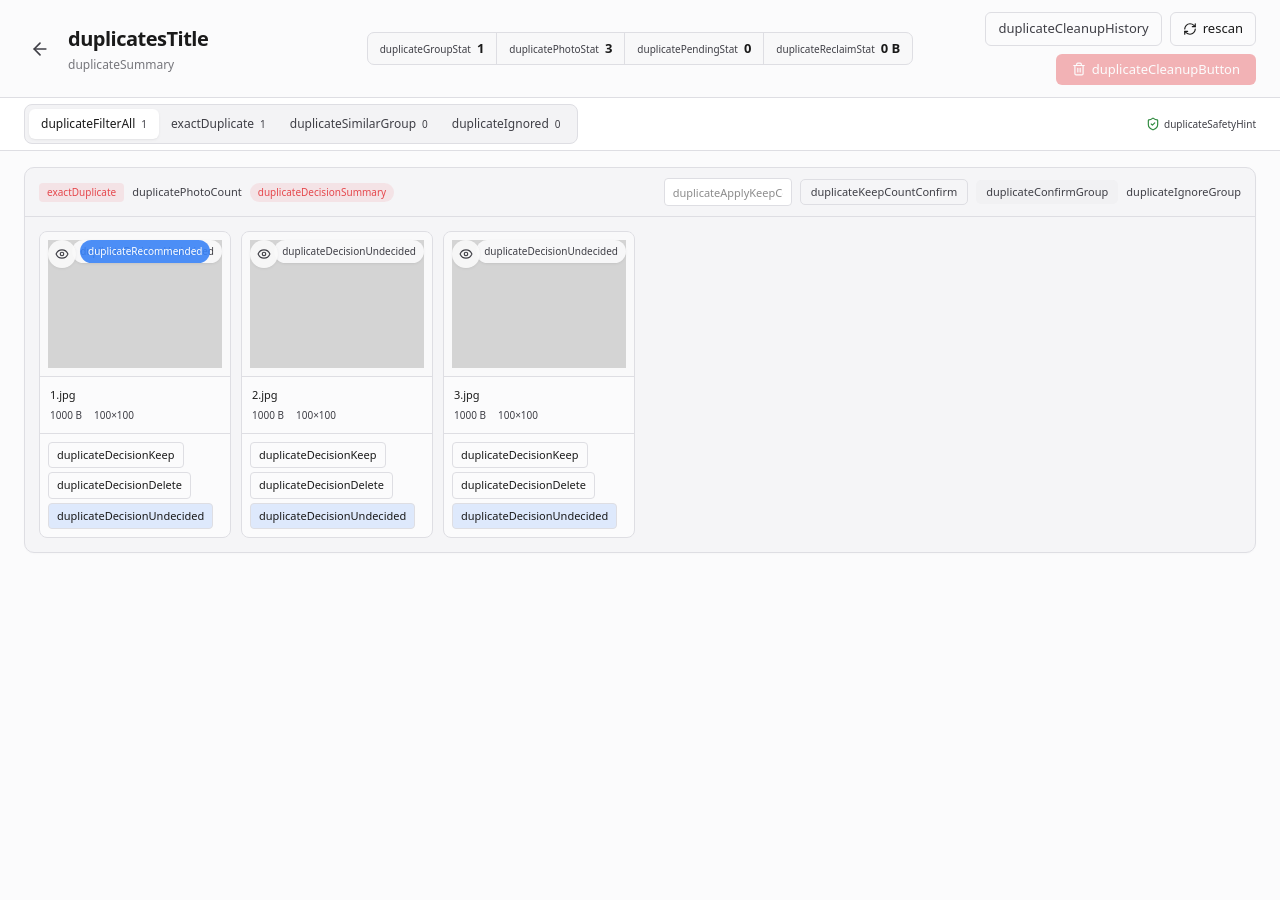
Scenario: DuplicatesPage persisted review › keeps batch recovery and failure information available for retry
Click the button "duplicateCleanupHistory". click: (1074, 29)
box: left=985, top=12, right=1162, bottom=46
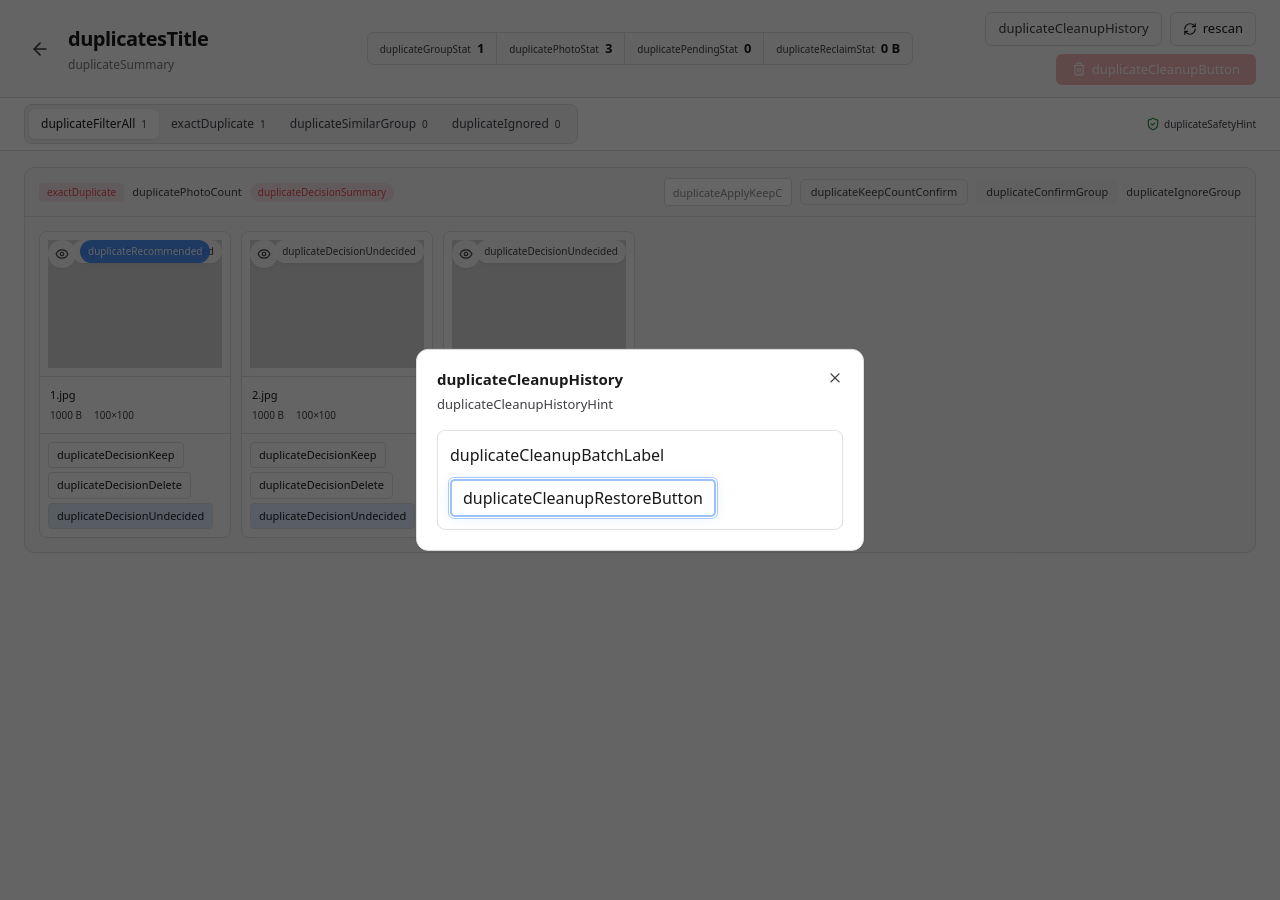
Click the button "duplicateCleanupRestoreButton". click: (583, 498)
box: left=450, top=479, right=716, bottom=517
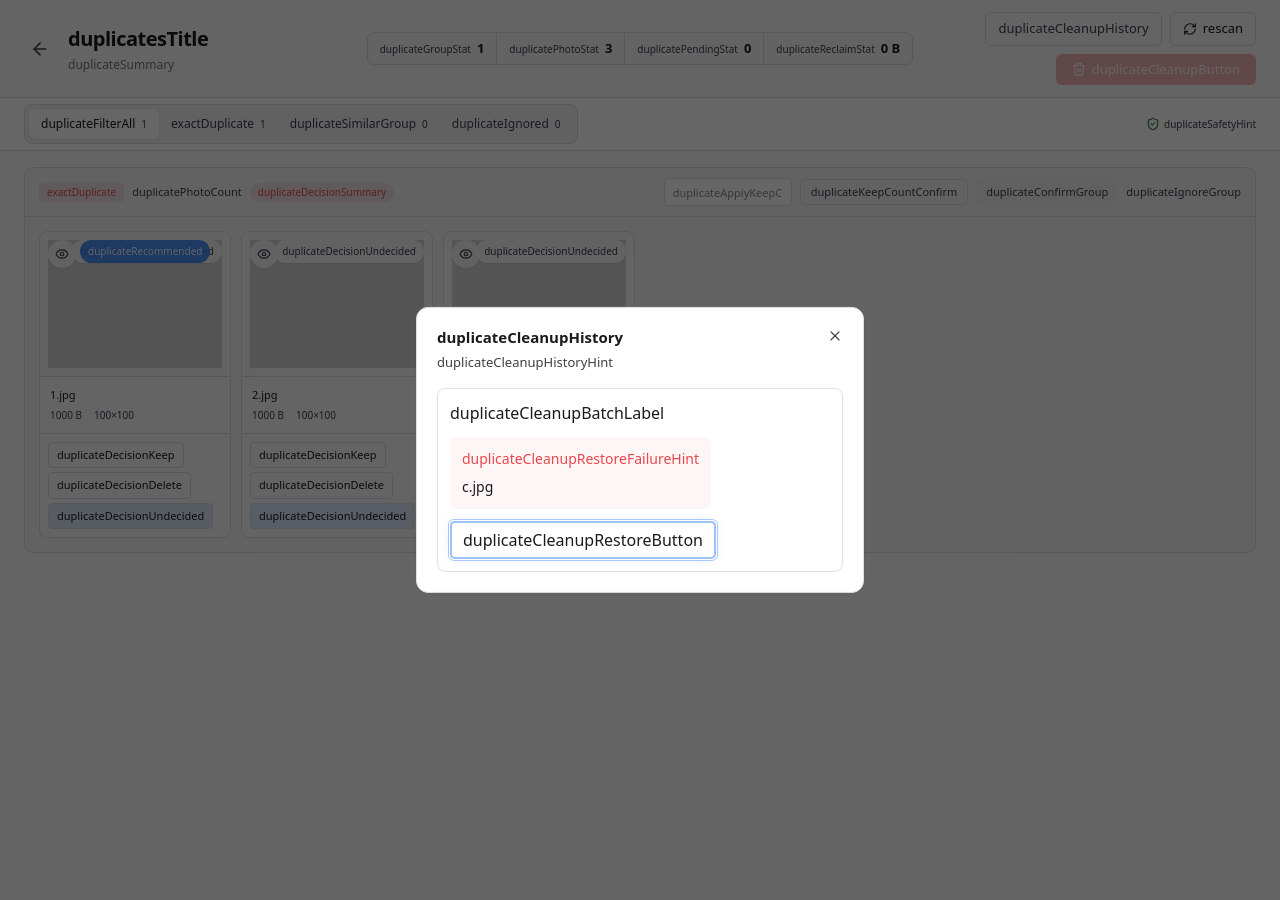
Result: the button "duplicateCleanupRestoreButton" is enabled at left=450, top=521, right=716, bottom=559
Result: the text "duplicateCleanupRestoreFailureHint" is shown at left=462, top=449, right=699, bottom=469
Result: the list item "c.jpg" is shown at left=462, top=477, right=493, bottom=496
